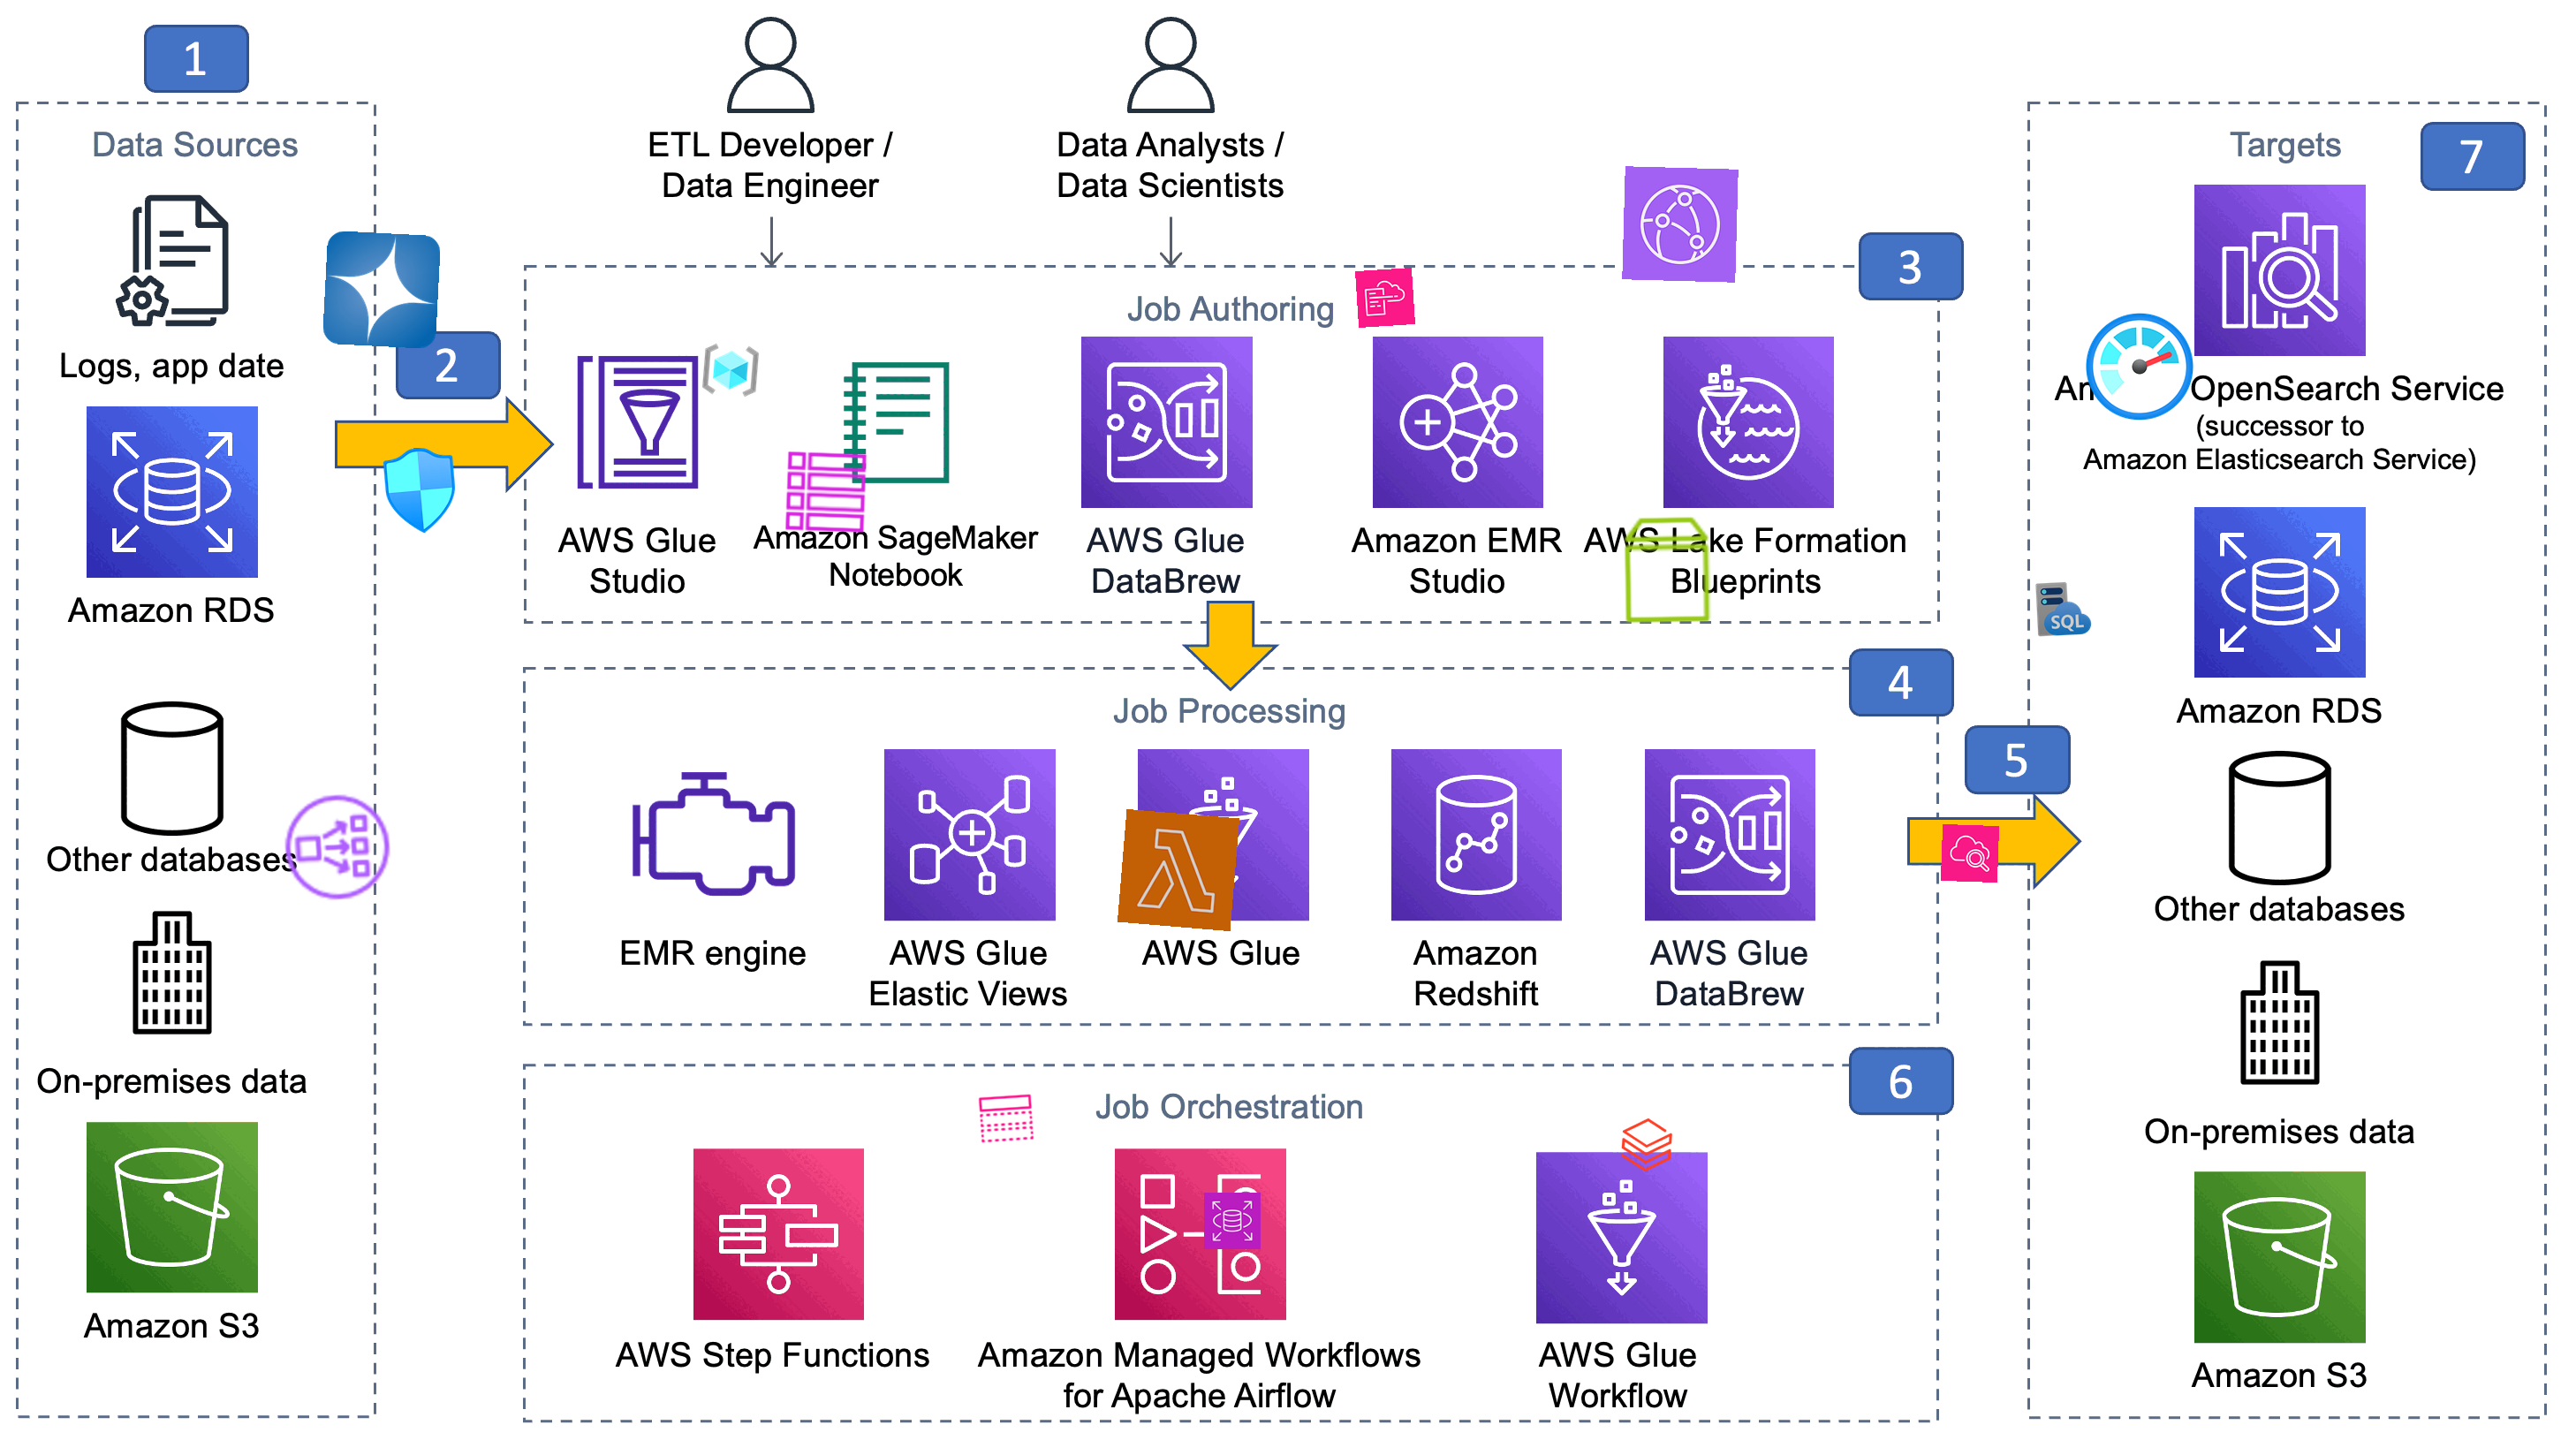aws_amazon_cloudfront: (1622, 166, 1739, 283)
aws_amazon_cloudwatch: (1939, 823, 1999, 883)
aws_amazon_rds: (1203, 1192, 1261, 1251)
aws_cloudformation: (1353, 267, 1415, 329)
aws_dynamodb_table: (782, 448, 870, 536)
aws_elastic_block_store_volume: (1610, 511, 1727, 628)
aws_elastic_load_balancing_network_load_balancer: (278, 787, 398, 908)
aws_lambda: (1116, 808, 1240, 932)
aws_simple_notification_service_topic: (975, 1088, 1037, 1150)
azure_databricks: (1615, 1114, 1677, 1176)
azure_monitor: (2082, 310, 2197, 425)
azure_network_security_groups: (375, 444, 467, 536)
azure_openai: (322, 230, 442, 350)
azure_resource_groups: (699, 340, 761, 402)
azure_sql_managed_instance: (2033, 578, 2093, 639)
